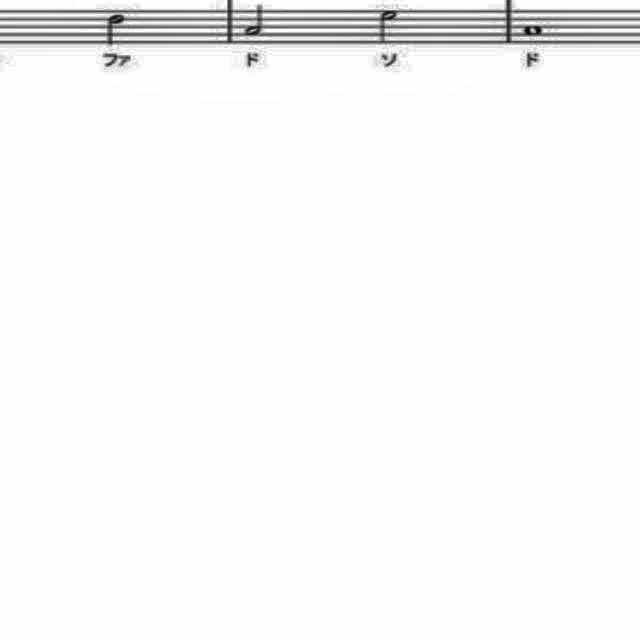Full-note: (519, 20, 553, 40)
Half-note: (372, 8, 408, 50), (96, 8, 132, 48), (239, 0, 271, 40)
